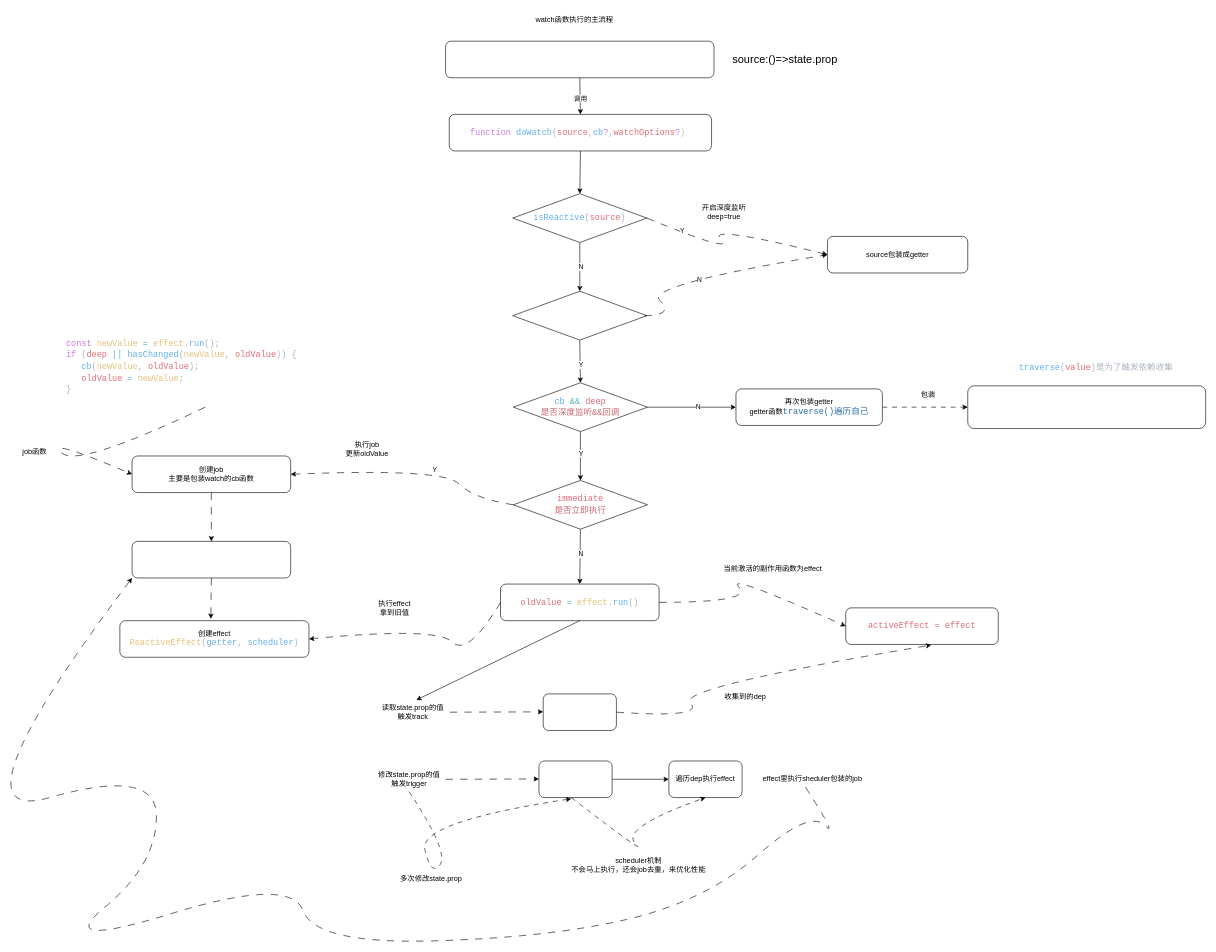
Image size: 1216x952. Some labels were removed from this diagram. The shapes that lost their labels are listed below. From the top down, each one's centre as x and y in pixels, then its label:
point 579,59: function watch ( source , cb ? , watchOptions ? )
point 579,315: isFunction ( source )
point 1086,407: const baseGetter = getter getter = () => traverse ( baseGetter ())
point 211,559: 创建scheduler 使用queuePreFlushCb再对job进行包装
point 579,711: track()
point 575,779: trigger()
